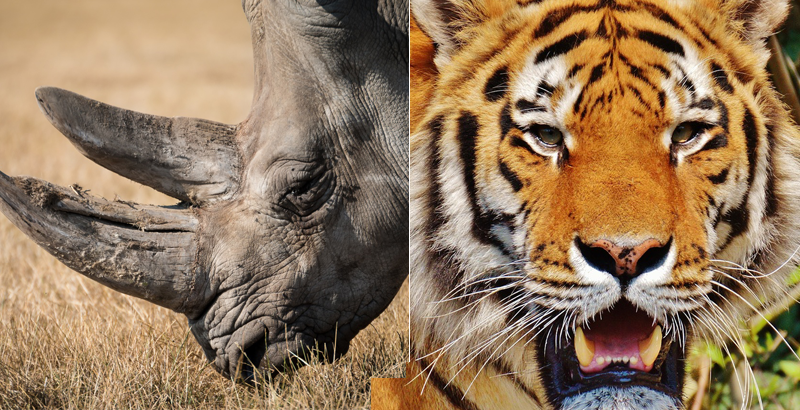Tigrew: (414, 9, 790, 410)
